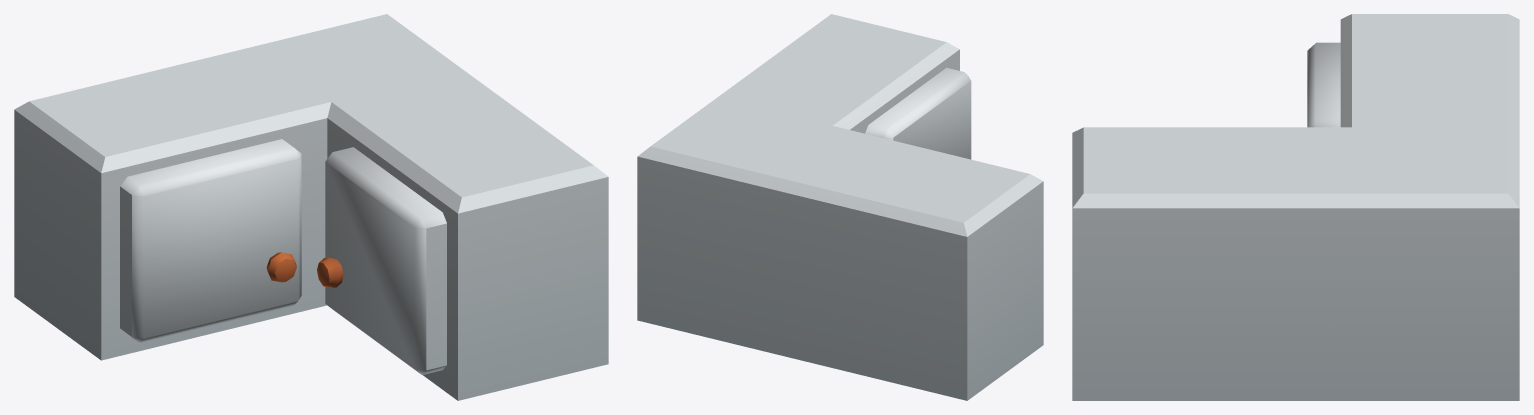
File: kay-kitchencabinet_corner_half.glb
3 views of the same model, side by side, from view 1: azimuth 30°, elevation 25°; view 2: azimuth 150°, elevation 25°; view 3: azimuth 270°, elevation 25° (orthographic). The views are drawn at different scales.
Parts seen in each view (by area): view 1: kitchencabinet_corner_half; view 2: kitchencabinet_corner_half; view 3: kitchencabinet_corner_half.
Boxes of the visible parts, bbox=[...] form: kitchencabinet_corner_half: bbox=[14, 14, 608, 400]; kitchencabinet_corner_half: bbox=[637, 14, 1043, 400]; kitchencabinet_corner_half: bbox=[1072, 14, 1519, 400].
Size of the model in its own units: 1.6 by 0.8 by 1.6.
Materials: 1 (1 with a texture image).
